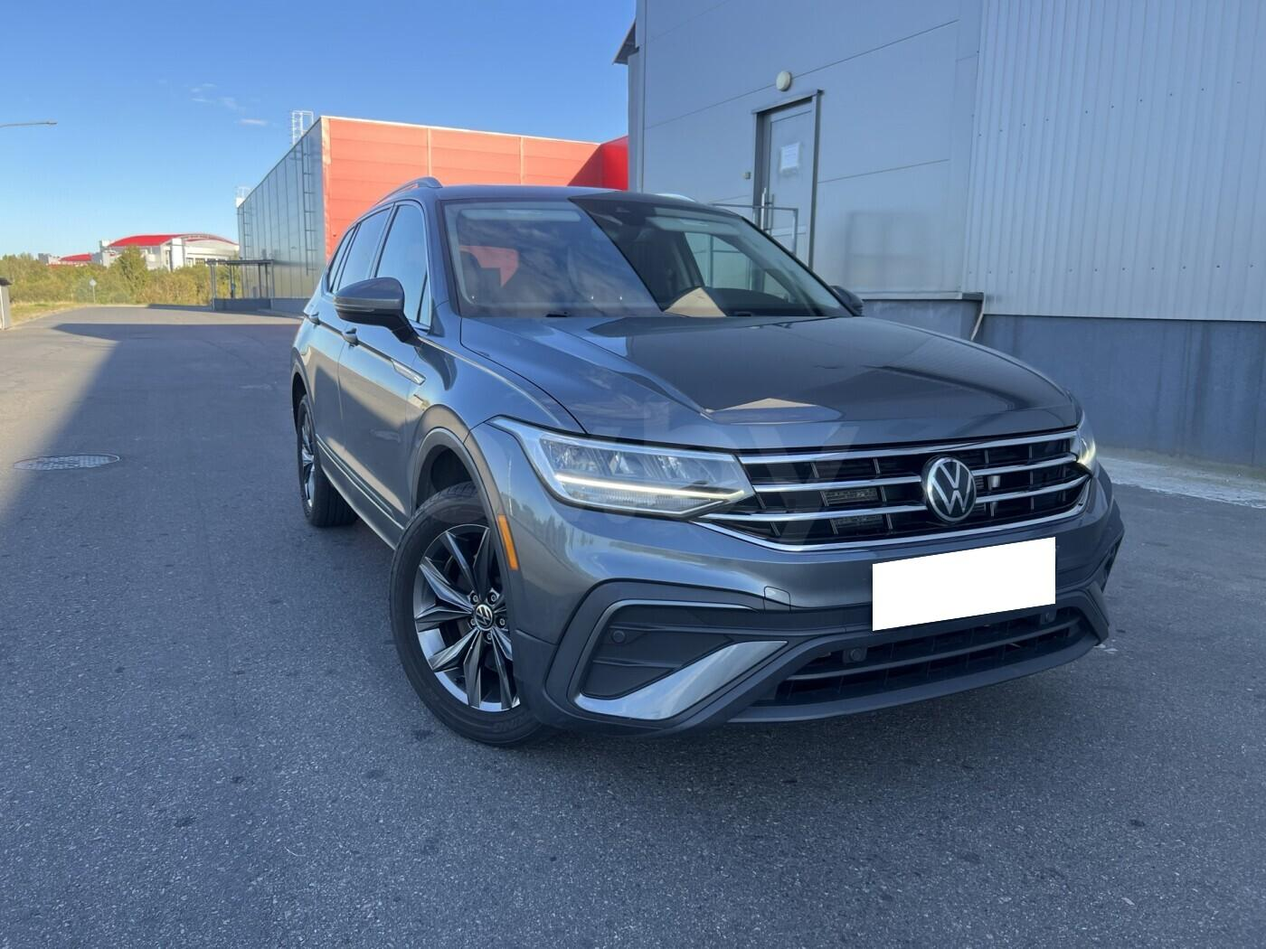Tiguan_2020-2024: (284, 177, 1128, 748)
